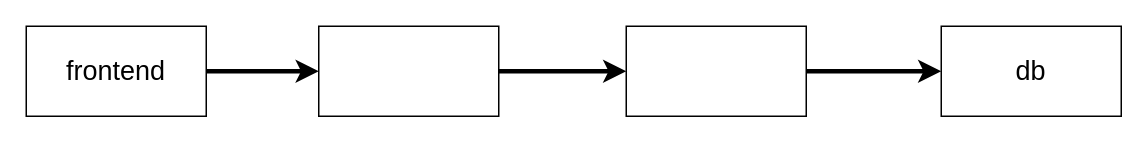
This 1148x143 diagram has some shape labels left out. The centre of each missing label's shape, as x and y in pixels:
"r1" goes at point (408, 70).
"r2" goes at point (715, 70).
